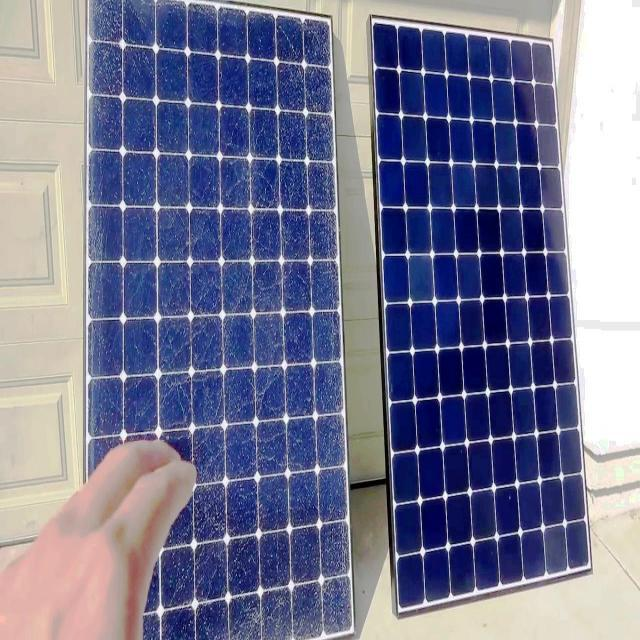faulty: (84, 2, 359, 640)
no faulty: (368, 12, 593, 620)
